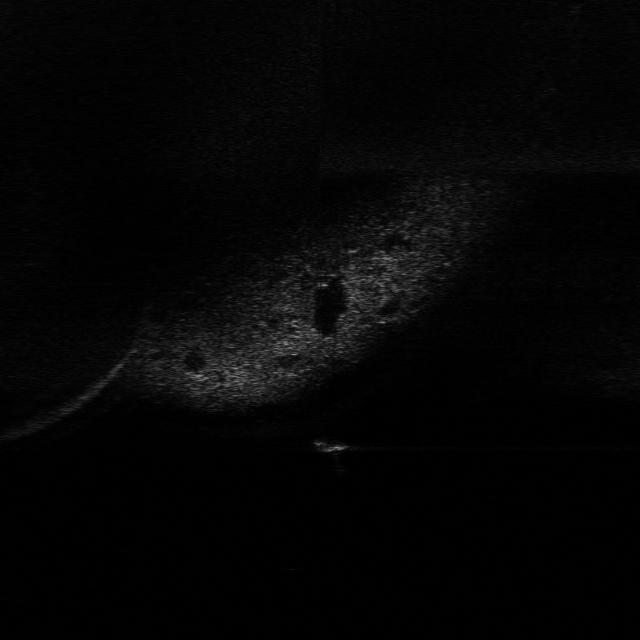cube: (307, 434, 354, 458)
